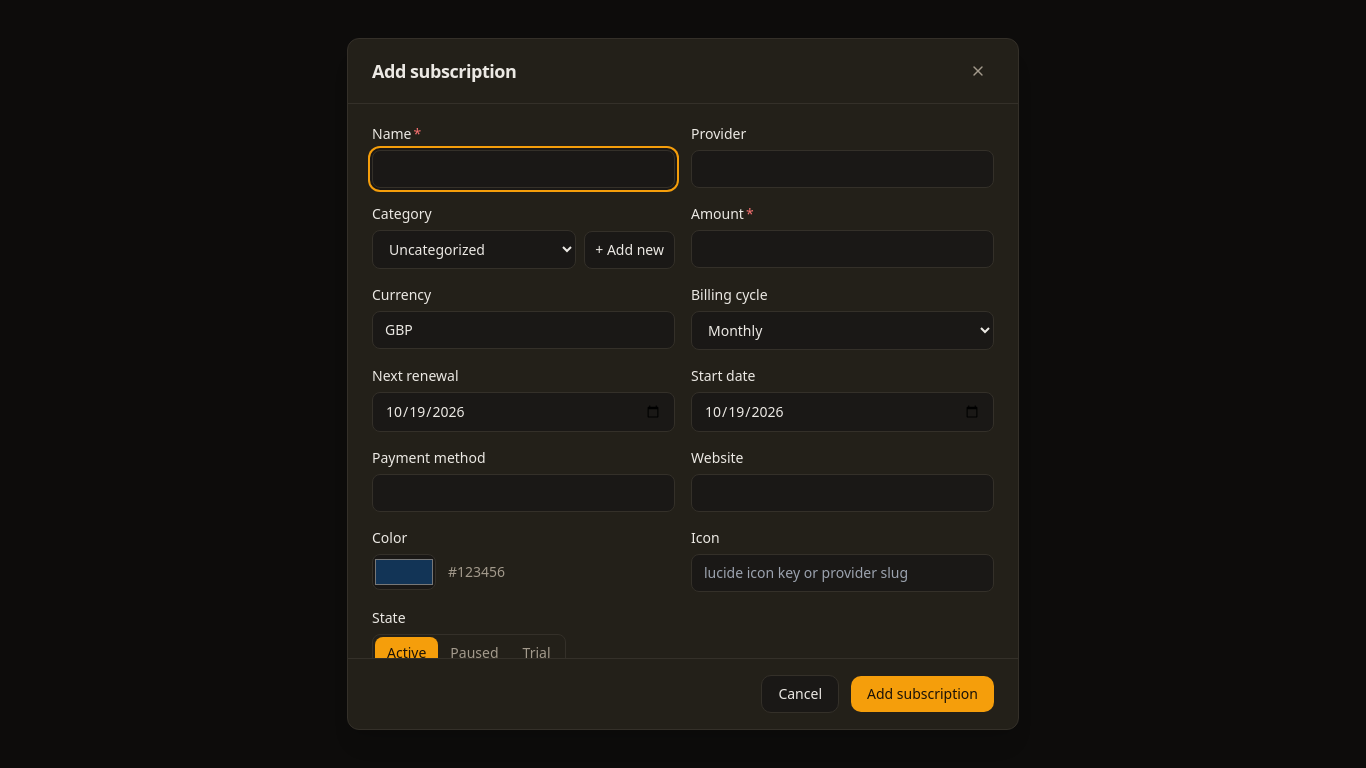
Test: inline validation names the offending field (Req 3.5, 3.6) › rejects an empty name and shows a message naming the name field
What coordinates should you click on to do the following:
click the button "Add subscription"
I would click on:
 (922, 694)
Its box is [851,676,994,712].
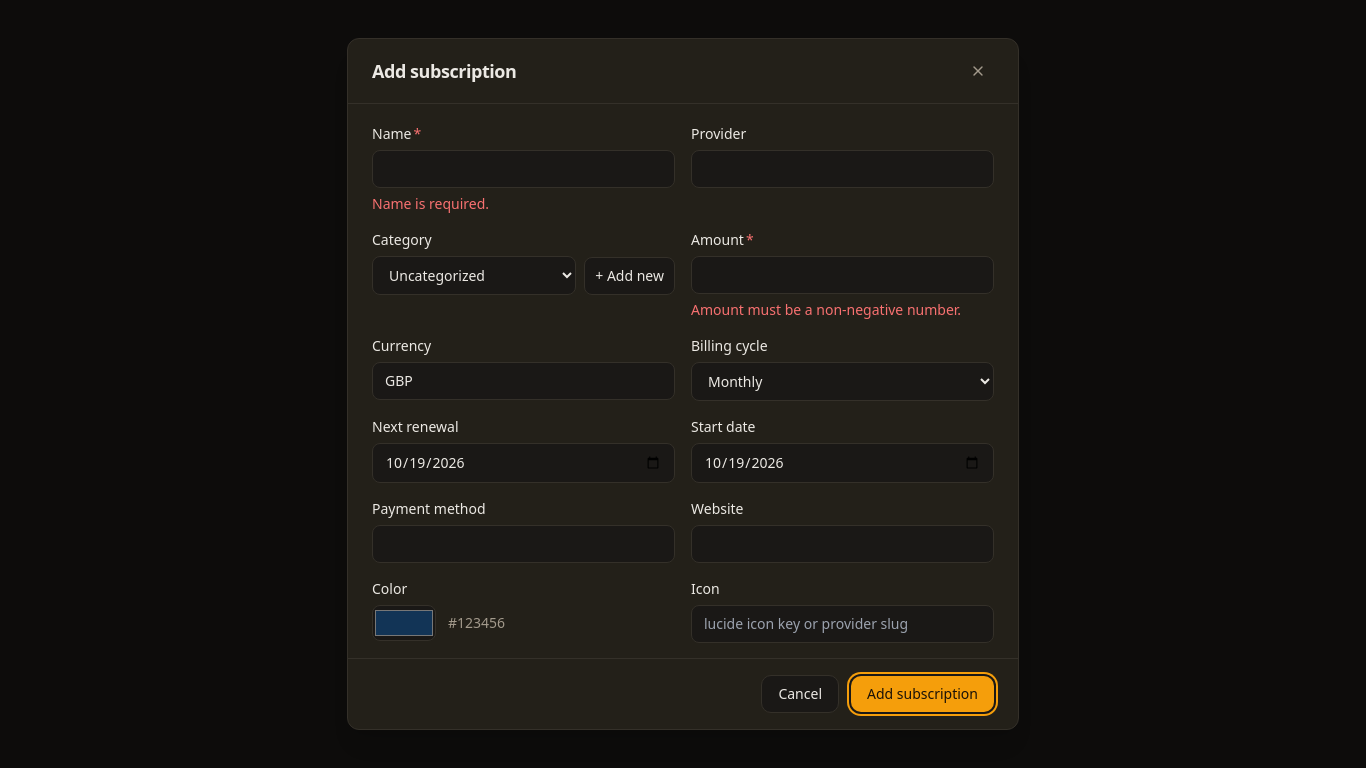
Result: the text "Name is required." is shown at [372,194,489,213]
